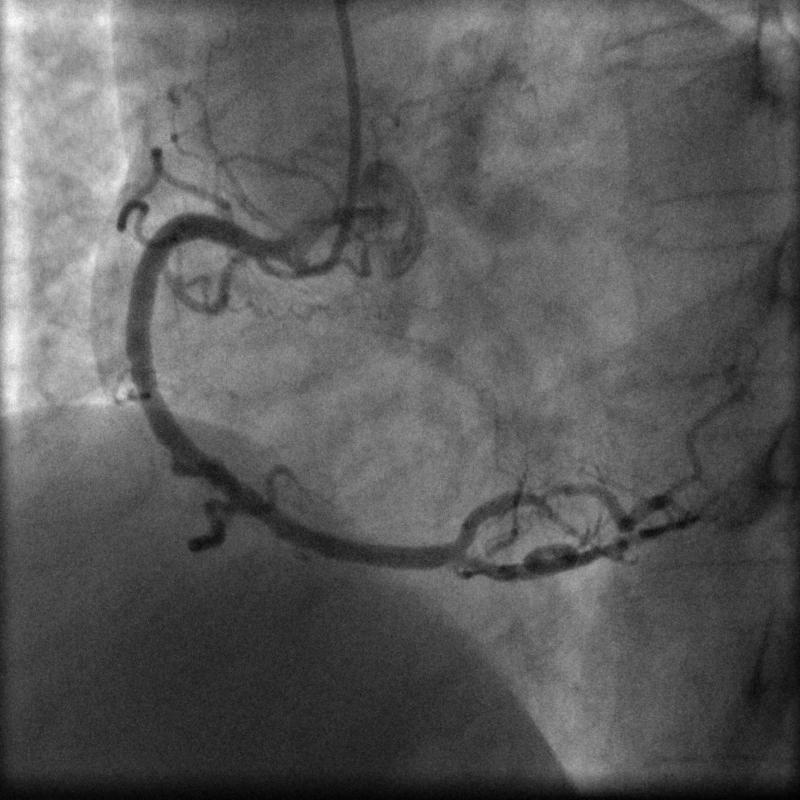Stenosis: (514, 480, 570, 506)
